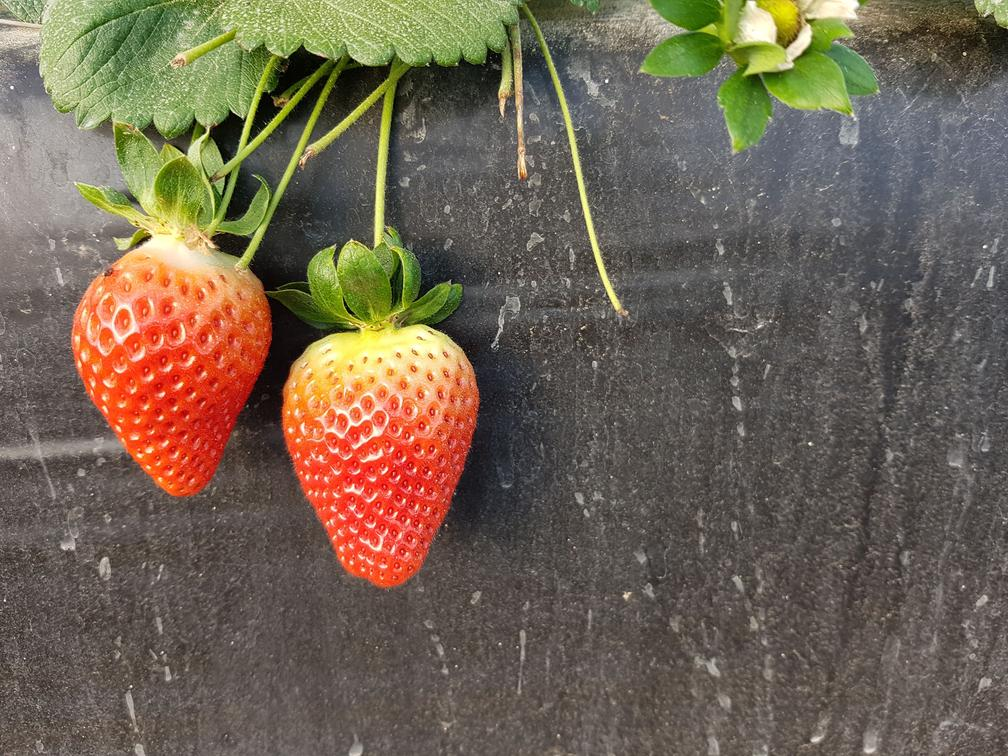Ripe: (65, 232, 270, 506), (282, 327, 485, 590)
